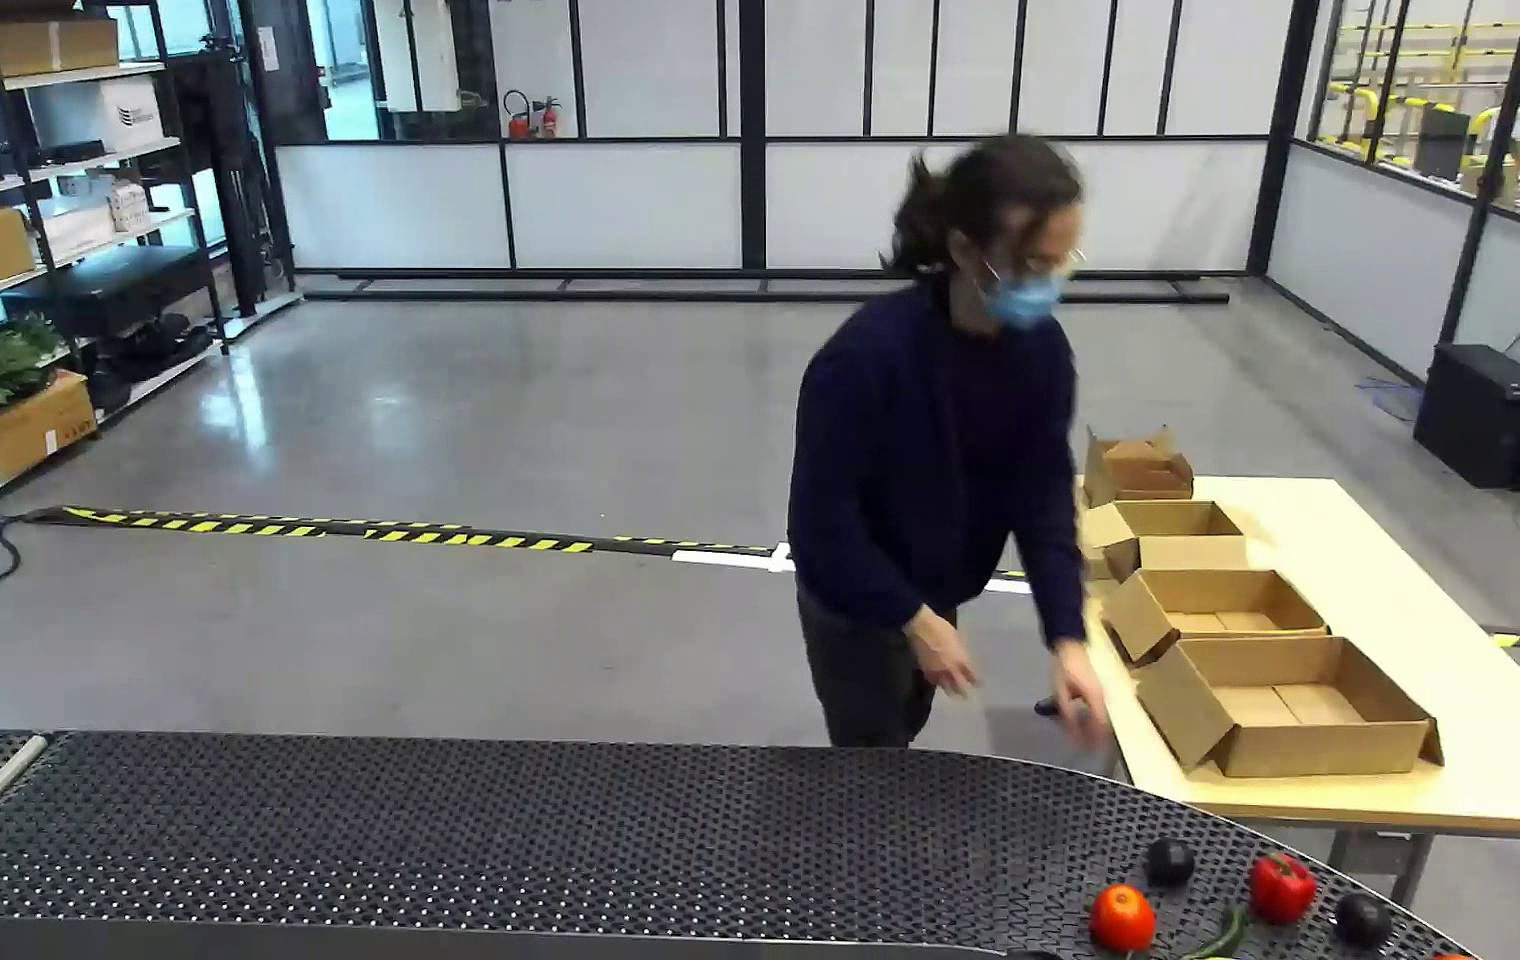Main droite: (1026, 615, 1132, 693)
